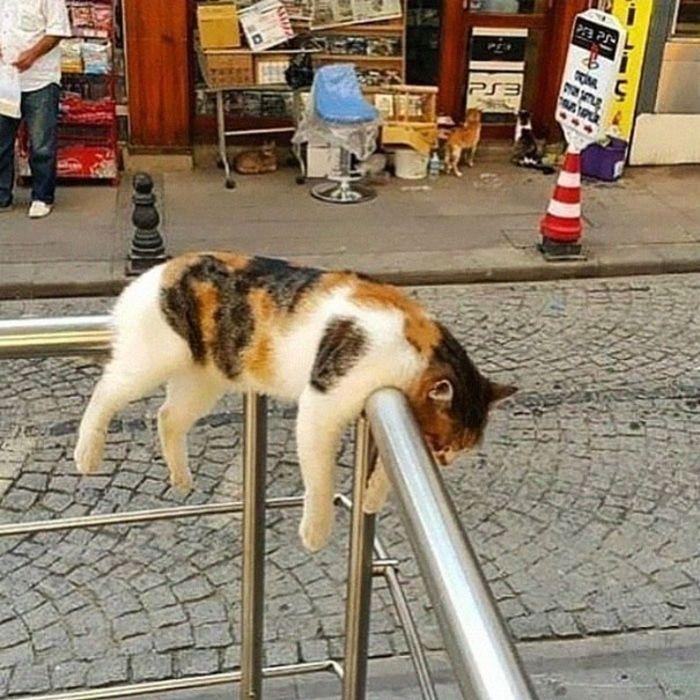kedo: (79, 248, 515, 545)
